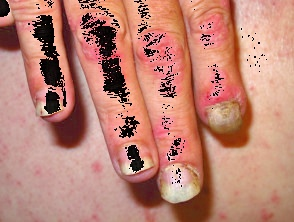Nail_psoriasis: (182, 57, 267, 145), (148, 131, 220, 216), (106, 125, 163, 185), (27, 70, 77, 122)
